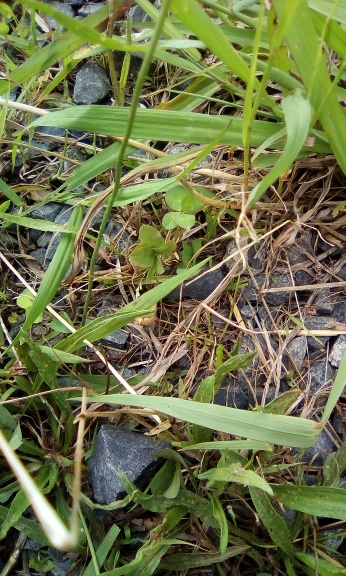4leaf: (127, 224, 177, 283), (161, 185, 205, 230)
